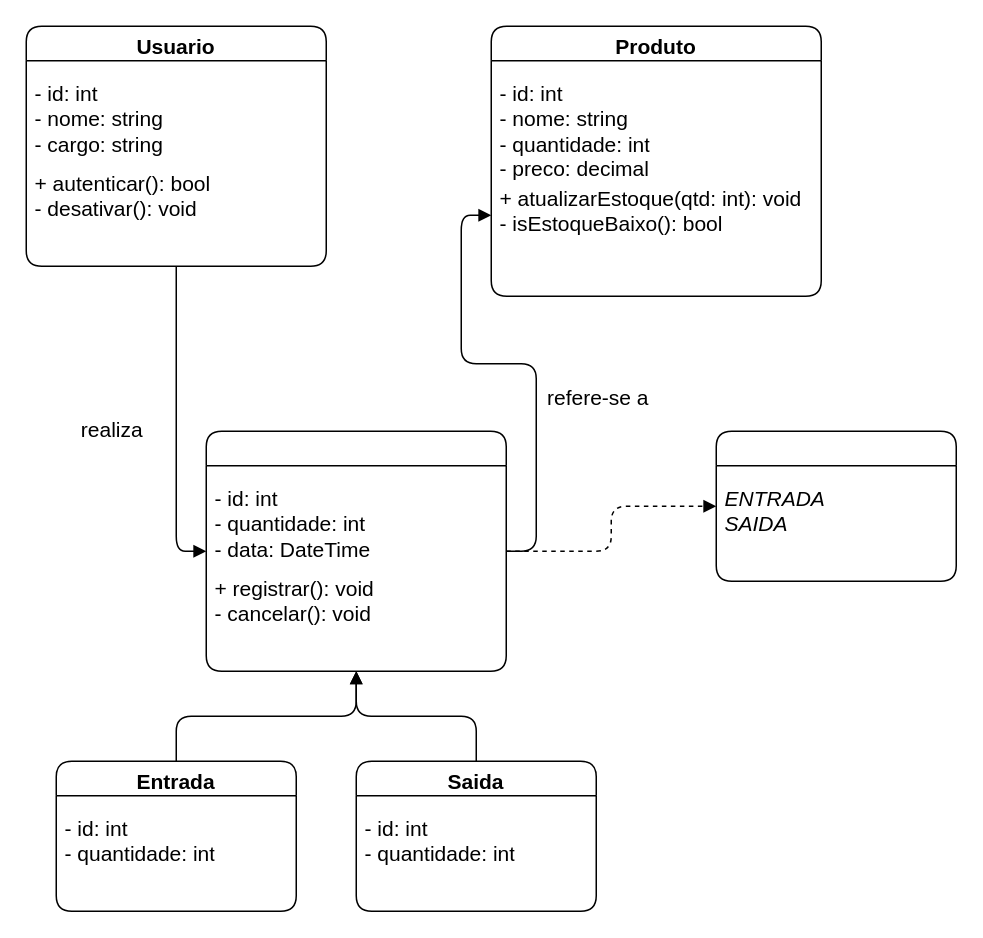
This 983x938 diagram has some shape labels left out. Here are the shapes that lost their labels. From the top down, the box of each, then its label:
(715, 430, 956, 581): TipoMovimentacao
(205, 430, 506, 671): Movimentacao
